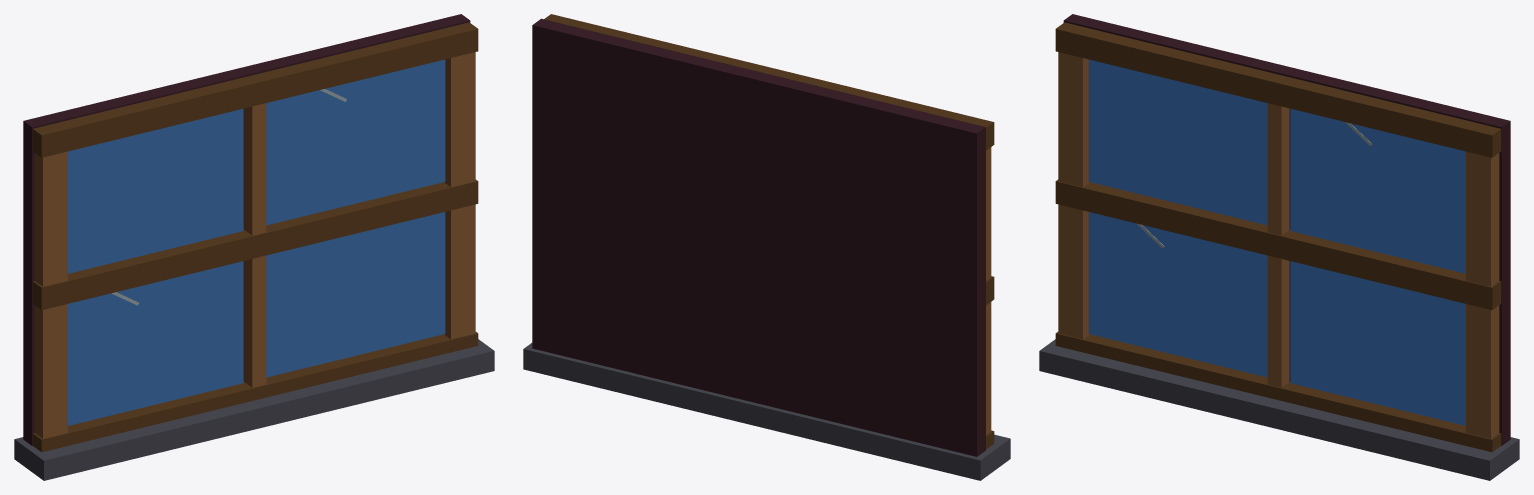
The model's file is mia-window.glb.
3 views of the same model, side by side, from view 1: azimuth 30°, elevation 25°; view 2: azimuth 150°, elevation 25°; view 3: azimuth 330°, elevation 25° (orthographic).
Parts seen in each view (by area): view 1: Body_night-glass, Body_wood, Body_oak, Body_stone, Body_dark; view 2: Body_dark, Body_stone, Body_wood, Body_oak; view 3: Body_night-glass, Body_wood, Body_oak, Body_stone, Body_dark.
Boxes of the visible parts, x1,y1,x2,y2 form: Body_night-glass: (68, 59, 445, 425); Body_wood: (32, 22, 478, 452); Body_oak: (34, 52, 475, 438); Body_stone: (14, 339, 494, 480); Body_dark: (23, 14, 470, 445); Body_dark: (532, 18, 985, 456); Body_stone: (523, 343, 1010, 480); Body_wood: (544, 14, 994, 449); Body_oak: (986, 147, 991, 434); Body_night-glass: (1088, 59, 1465, 425); Body_wood: (1055, 22, 1501, 452); Body_oak: (1058, 52, 1499, 438); Body_stone: (1039, 339, 1519, 480); Body_dark: (1063, 14, 1510, 445).
Size of the model in its own units: 1.85 by 1.33 by 0.21.
